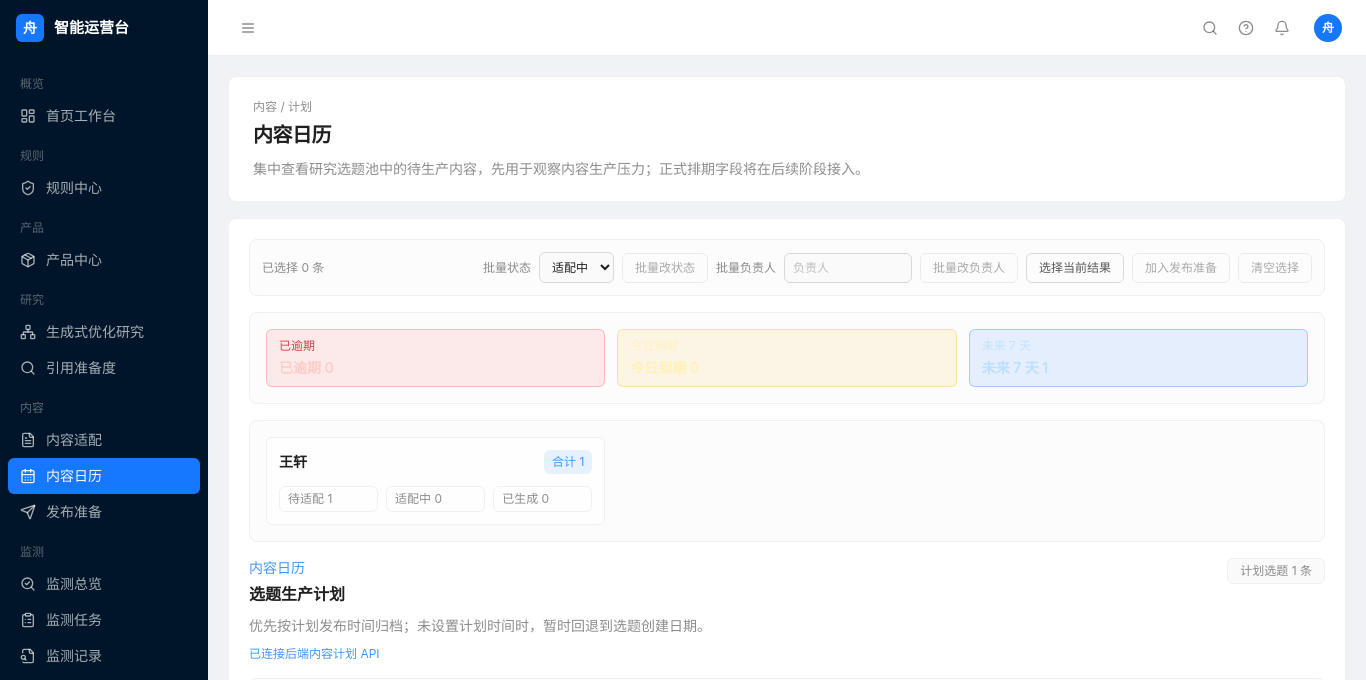
it: P28 内容日历独立页面 › API 模式下把选中的内容计划提交到后端发布队列
Click the button "选择当前结果". click: [1075, 268]
box: [1026,253,1124,283]
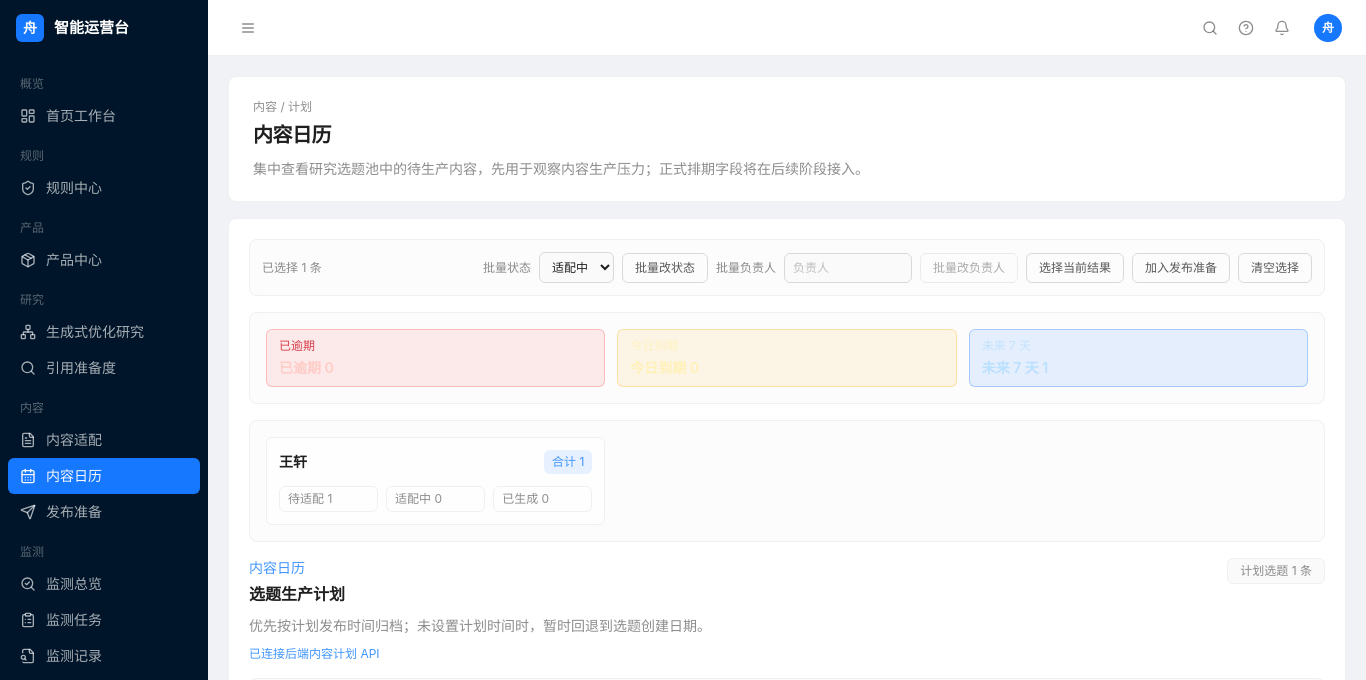
Click the button "加入发布准备". click: [1181, 268]
box: [1132,253,1230,283]
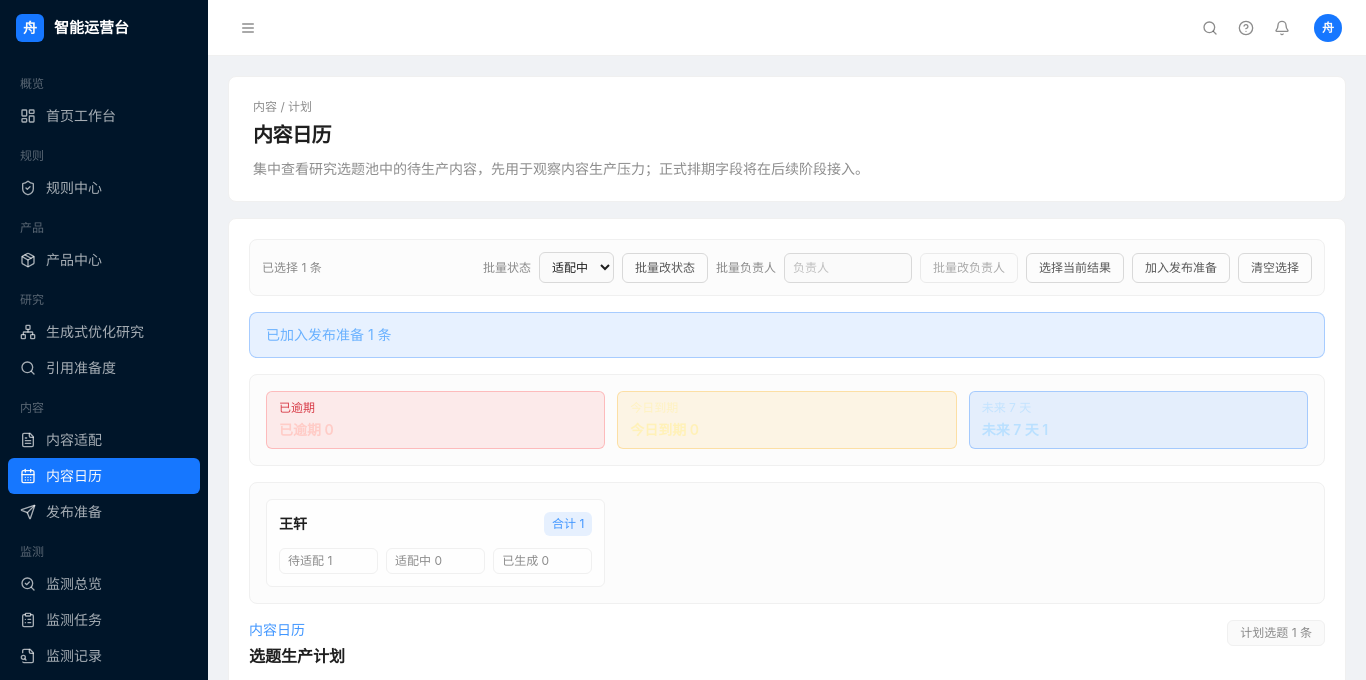
Expected: the message reads "已加入发布准备 1 条", [266,326,392,343]
